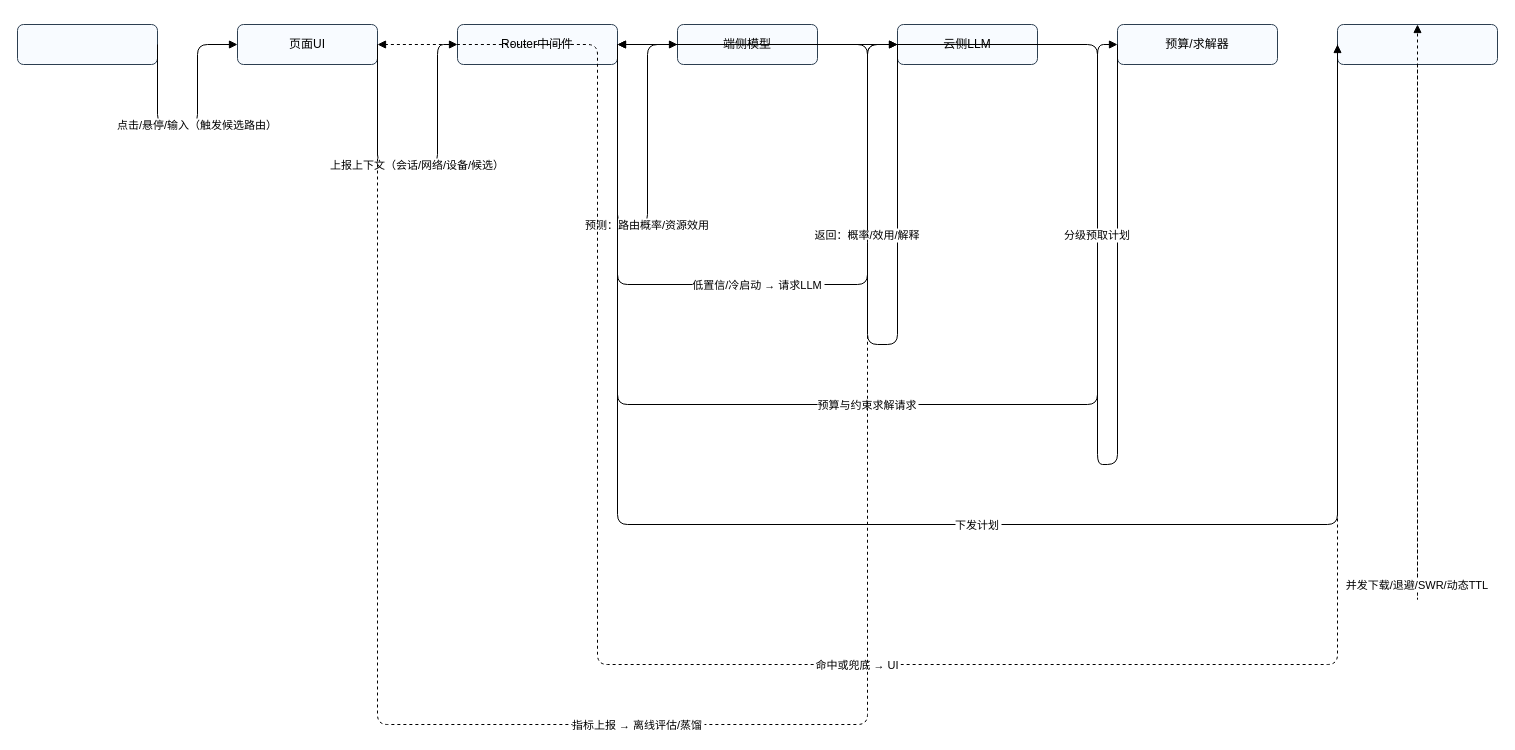
Some shapes in this 1515 by 750 pixel diagram are drawn without their labels. Each missing label, with the box of its shape:
Service Worker: (1336, 24, 1498, 64)
用户: (16, 24, 158, 64)
